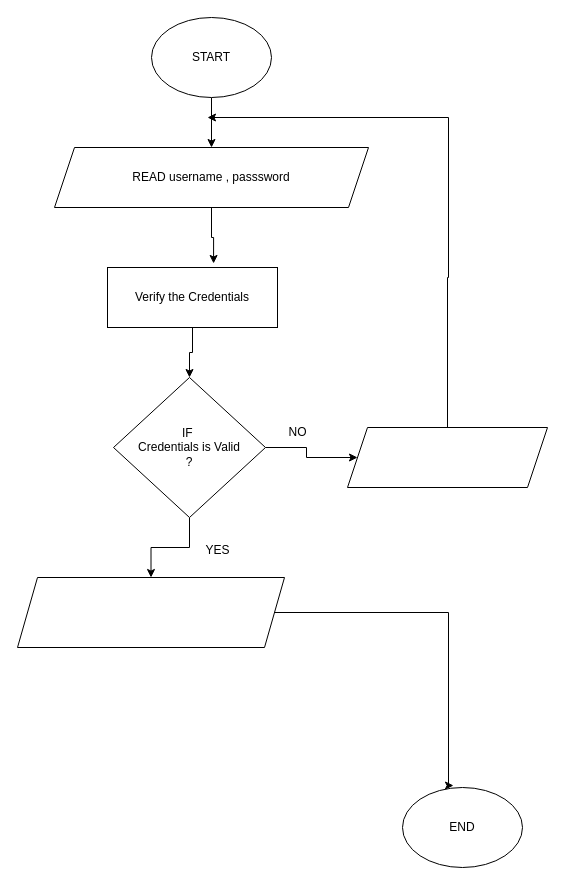
The diagram is 565 pixels wide and 885 high, and some of its shapes have lost their labels. Here are the shapes that lost their labels. From the top down, the box of each, then its label:
(346, 426, 548, 488): DISPLAY "Invalid username or password"
(16, 576, 284, 648): DISPLAY "Sucess Login"
